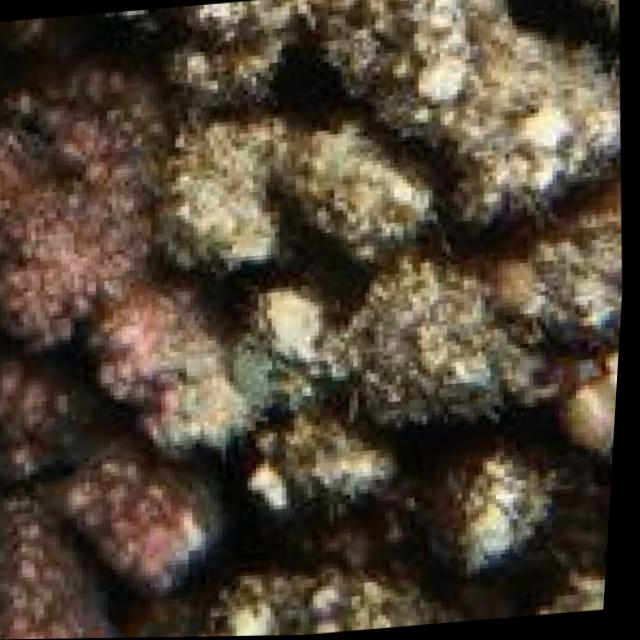Dead Coral: (163, 0, 640, 638)
